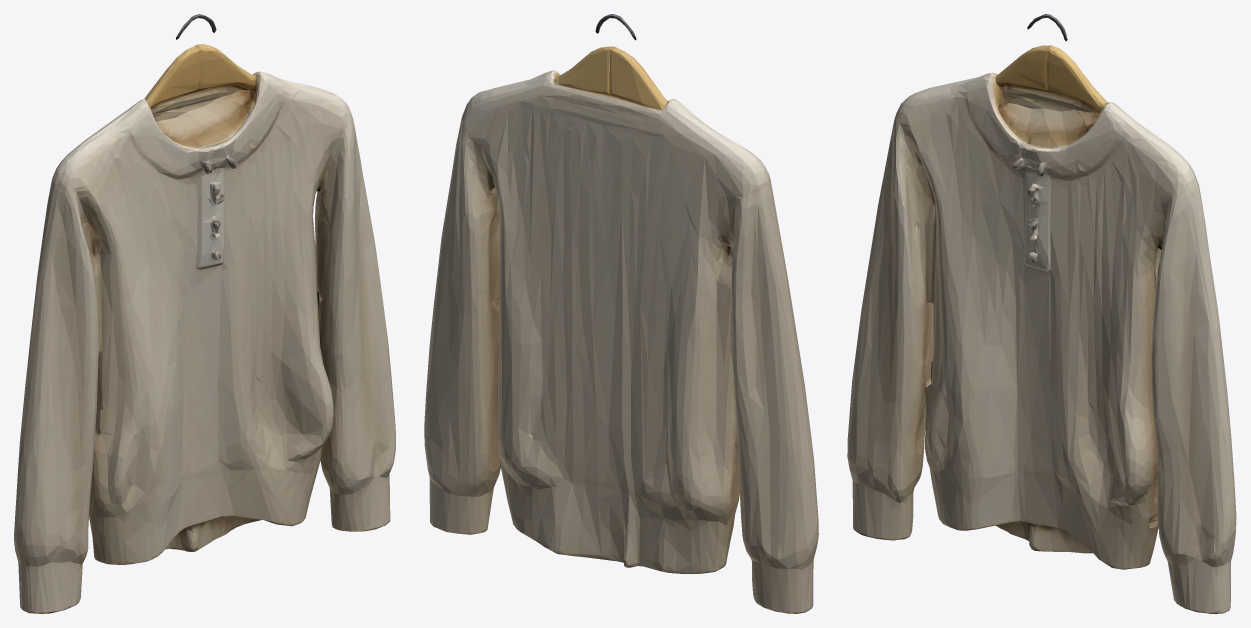
3 renders of one model, left to right at view 1: azimuth 30°, elevation 25°; view 2: azimuth 150°, elevation 25°; view 3: azimuth 330°, elevation 25°, orthographic. The views are drawn at different scales.
Parts seen in each view (by area): view 1: geometry_0; view 2: geometry_0; view 3: geometry_0.
Boxes of the visible parts, <box> form: geometry_0: <box>14,14,395,613</box>; geometry_0: <box>424,14,818,613</box>; geometry_0: <box>847,14,1236,613</box>.
Bounding box in the file's own units: 0.7282 × 0.9997 × 0.1381.
Materials: 1 (1 with a texture image).
